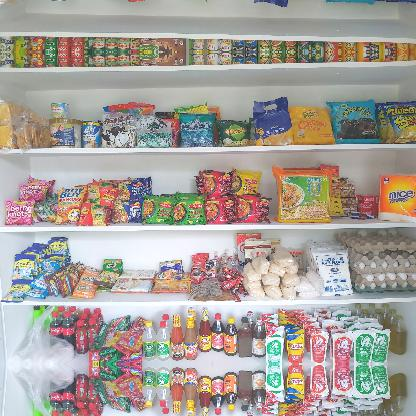Lady-s-Choice: (48, 118, 82, 148)
